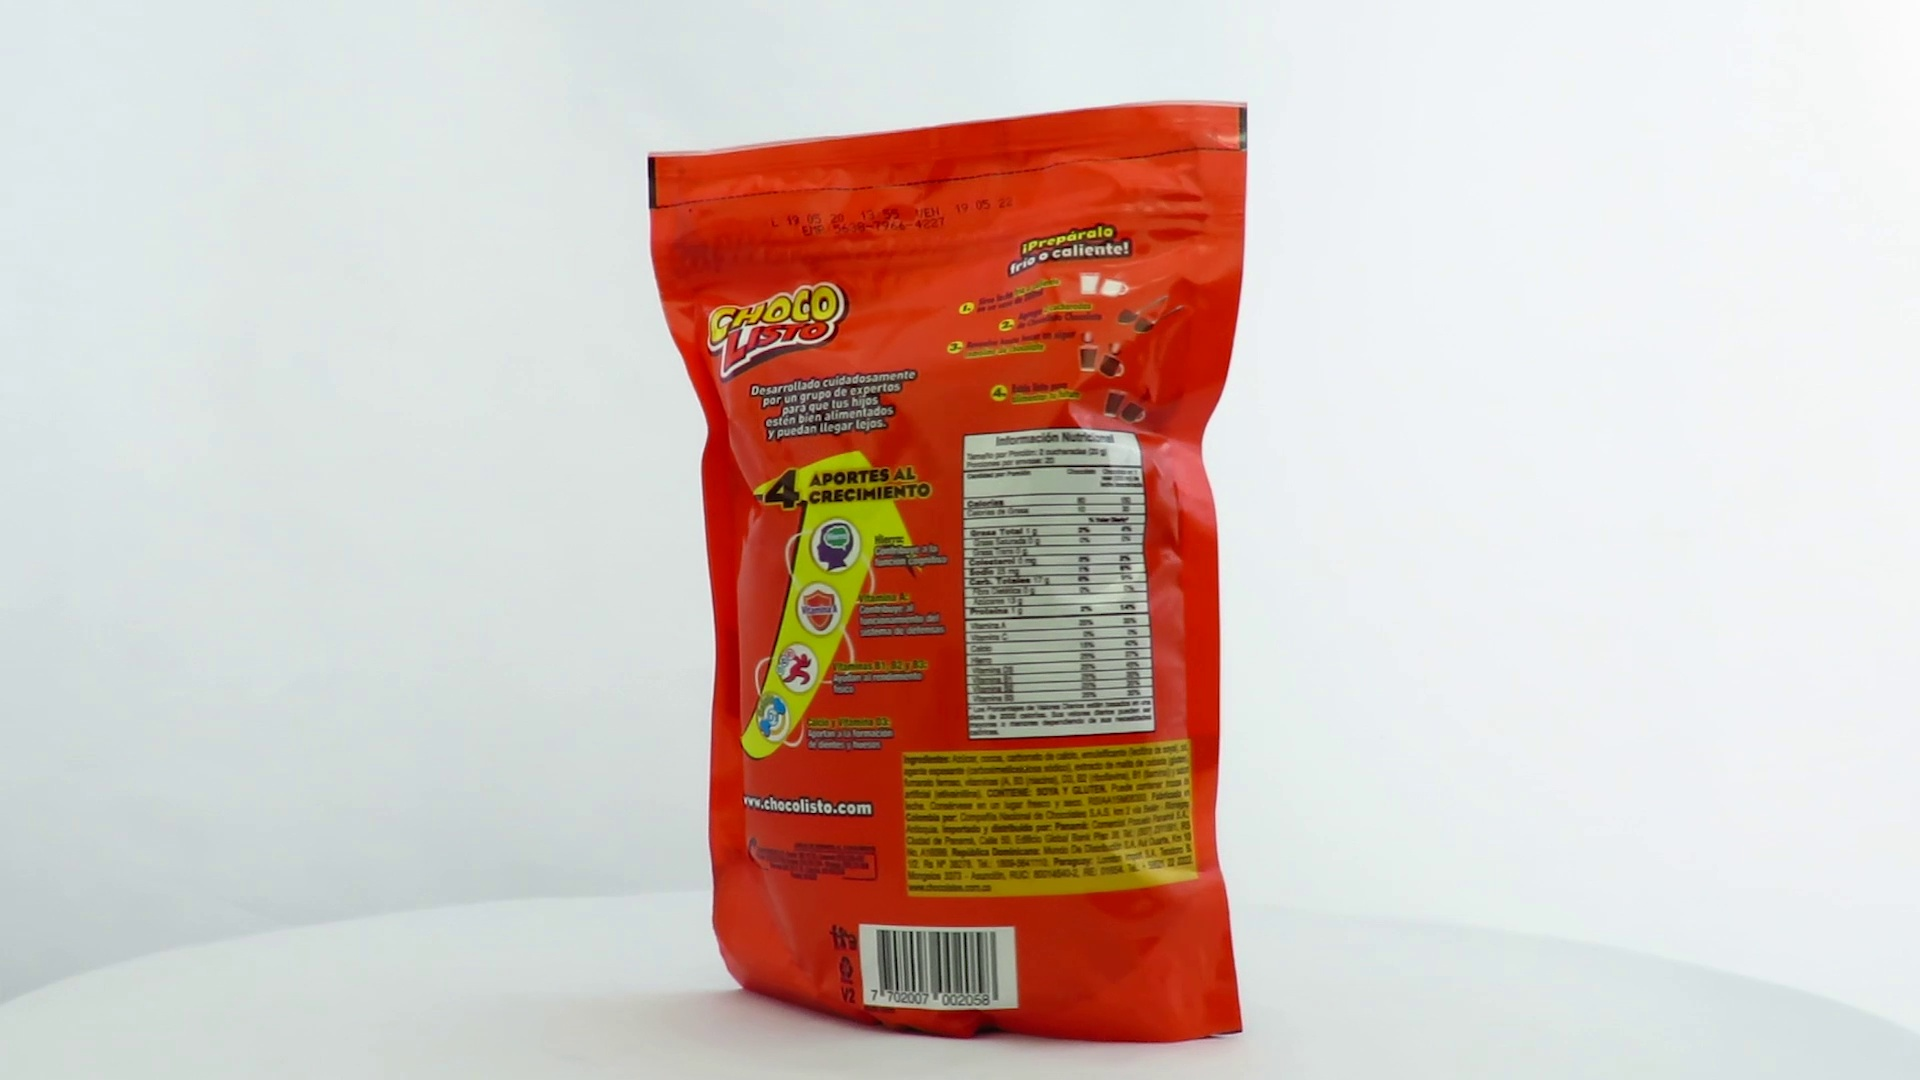COL0170103DYP40000: (642, 95, 1254, 1050)
